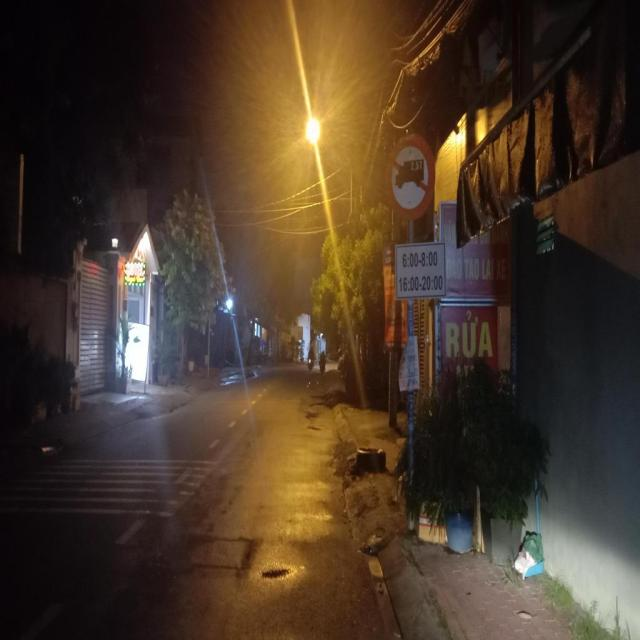cam_o_to_tai_trong_luong_qua_2-5t: (384, 132, 436, 224)
khac: (396, 244, 447, 299)
